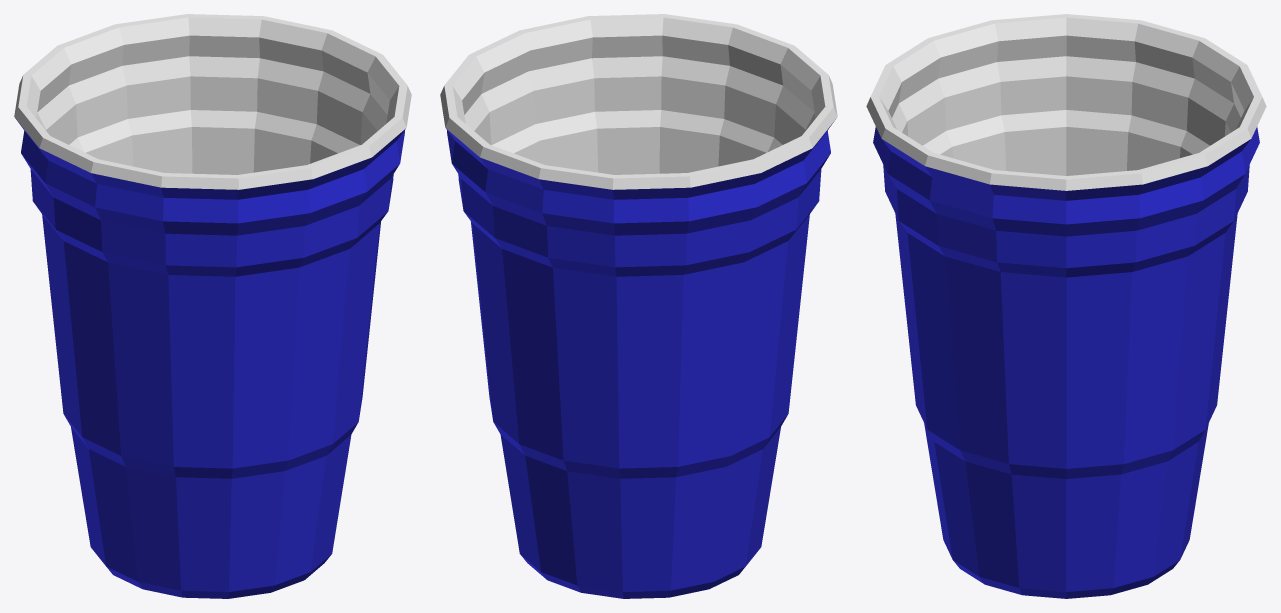
File: BlueCupNormal.glb
The picture shows the model from 3 angles, left to right: view 1: azimuth 30°, elevation 25°; view 2: azimuth 150°, elevation 25°; view 3: azimuth 270°, elevation 25°; orthographic projection.
Parts seen in each view (by area): view 1: Cup; view 2: Cup; view 3: Cup.
Part boxes in pixels (<box>): Cup: <box>14,14,411,598</box>; Cup: <box>440,14,837,598</box>; Cup: <box>866,14,1266,598</box>.
Size of the model in its own units: 0.096 by 0.12 by 0.096.
